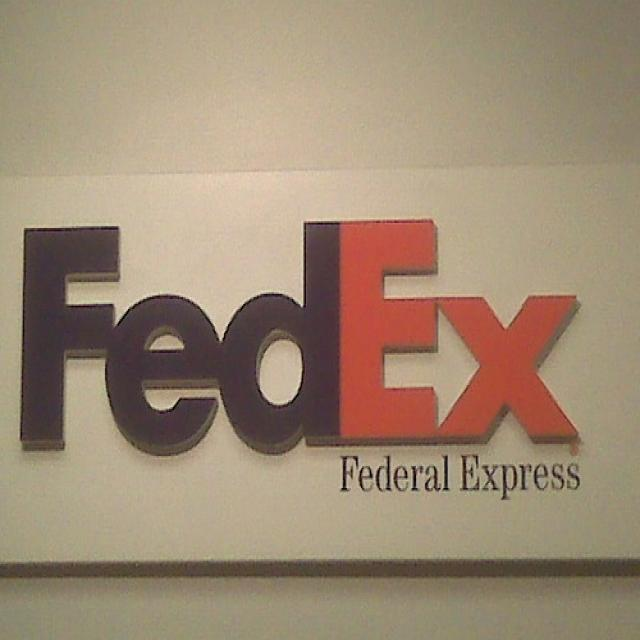fedex: (18, 214, 594, 462)
